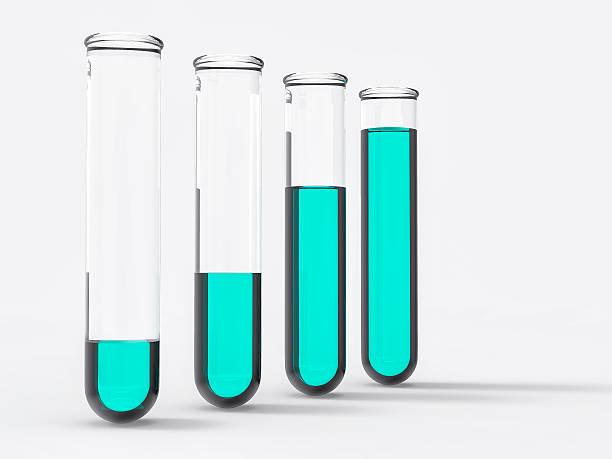Test tube: (67, 19, 164, 423), (188, 43, 265, 404), (281, 66, 350, 396), (359, 81, 420, 387)
